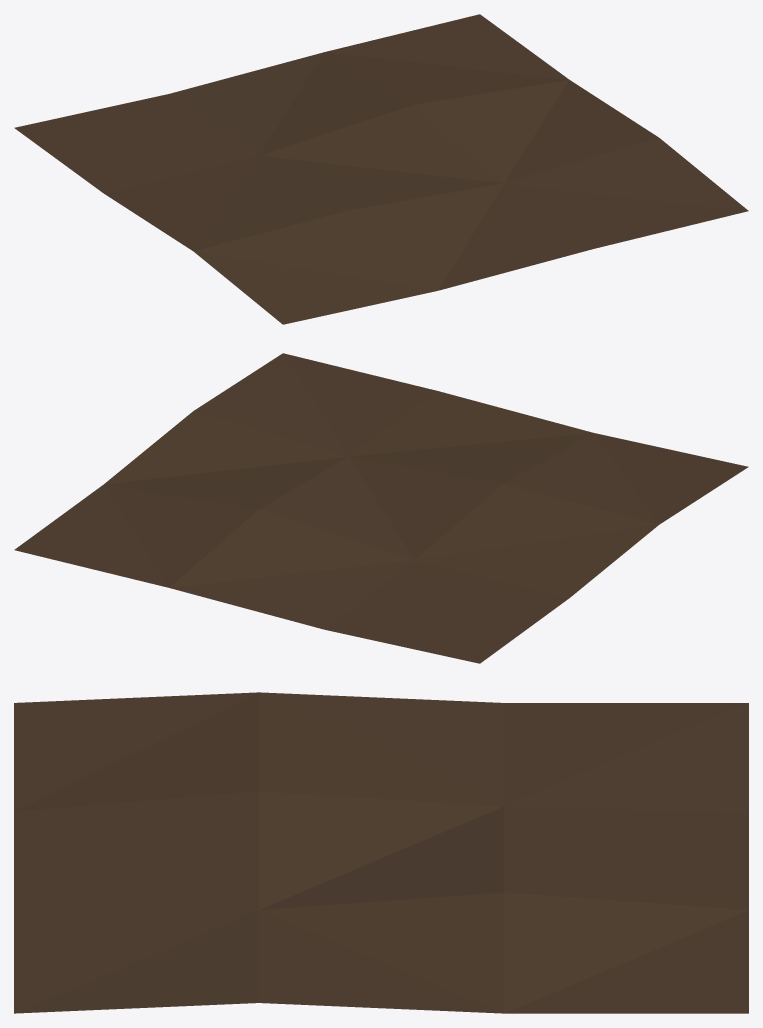
File: dungeon-floor-dirt.glb
3 renders of one model, top to bottom at view 1: azimuth 30°, elevation 25°; view 2: azimuth 150°, elevation 25°; view 3: azimuth 270°, elevation 25°, orthographic. The views are drawn at different scales.
Visible parts, largest first — view 1: dungeon-floor-dirt; view 2: dungeon-floor-dirt; view 3: dungeon-floor-dirt.
Part boxes in pixels (x1,y1,x2,y2): dungeon-floor-dirt: (14,14,748,324); dungeon-floor-dirt: (14,353,748,663); dungeon-floor-dirt: (14,692,748,1013).
Size of the model in its own units: 4 by 0.1376 by 4.
1 material, 1 textured.
